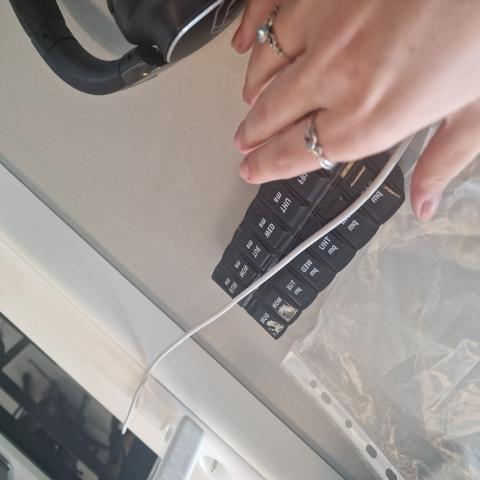Hands: (204, 0, 478, 236)
PillBox: (203, 122, 429, 348)
